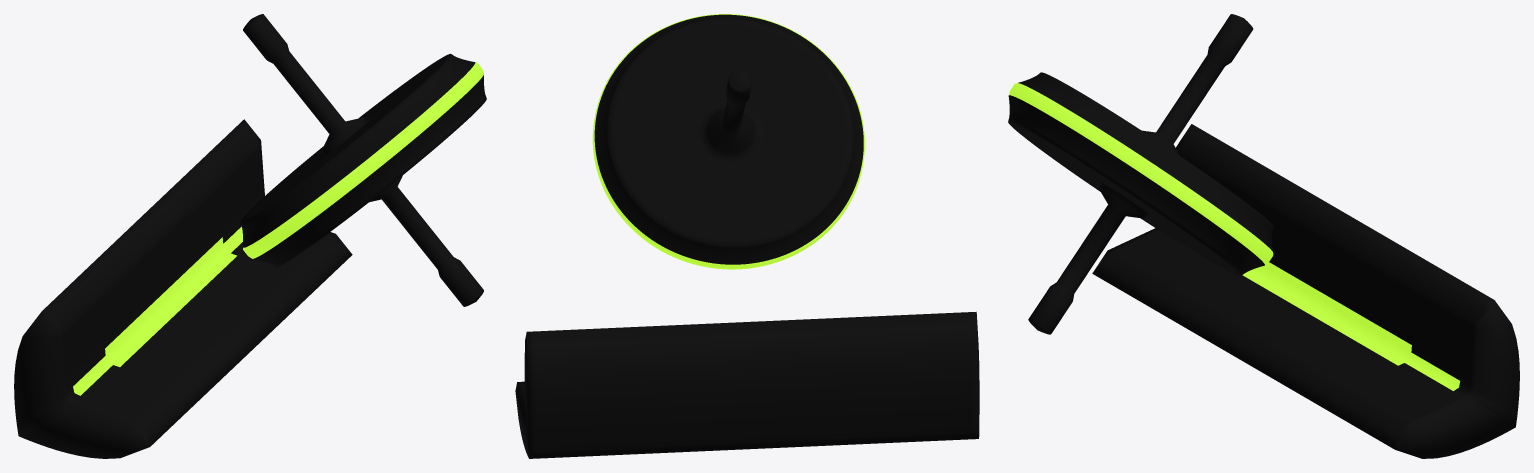
3 views of the same model, side by side, from view 1: azimuth 30°, elevation 25°; view 2: azimuth 150°, elevation 25°; view 3: azimuth 270°, elevation 25° (orthographic). The views are drawn at different scales.
Visible parts, largest first — view 1: yagen, kuruma; view 2: yagen, kuruma; view 3: yagen, kuruma.
Part boxes in pixels (left/top/right/bottom): yagen: left=14, top=119, right=352, bottom=458; kuruma: left=240, top=14, right=486, bottom=306; yagen: left=515, top=311, right=979, bottom=458; kuruma: left=592, top=14, right=864, bottom=269; yagen: left=1092, top=124, right=1519, bottom=458; kuruma: left=1008, top=14, right=1273, bottom=334.
Size of the model in its own units: 1.83 by 1.45 by 1.81.
